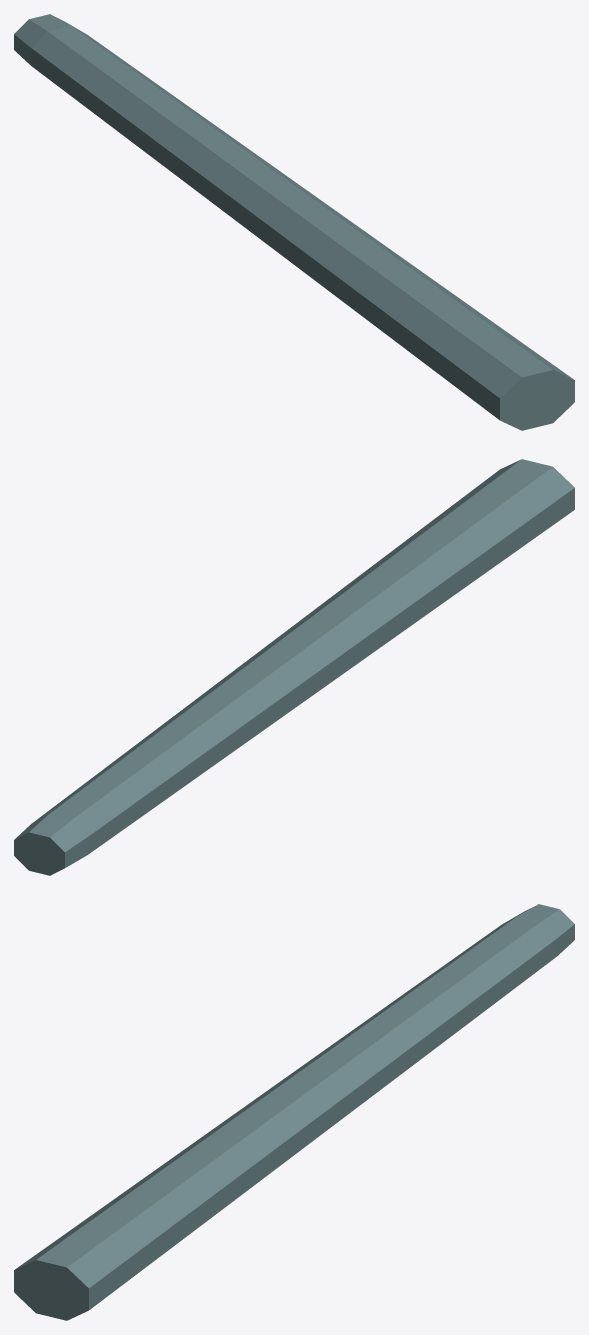
Rendered from retro_manga_3d.glb.
The picture shows the model from 3 angles, top to bottom: view 1: azimuth 30°, elevation 25°; view 2: azimuth 150°, elevation 25°; view 3: azimuth 330°, elevation 25°; orthographic projection.
Visible parts, largest first — view 1: retro_manga_3d; view 2: retro_manga_3d; view 3: retro_manga_3d.
Part boxes in pixels (x1=…): retro_manga_3d: x1=14, y1=14, x2=574, y2=430; retro_manga_3d: x1=14, y1=459, x2=574, y2=875; retro_manga_3d: x1=14, y1=904, x2=574, y2=1320.
Size of the model in its own units: 0.0868 by 0.0591 by 1.
